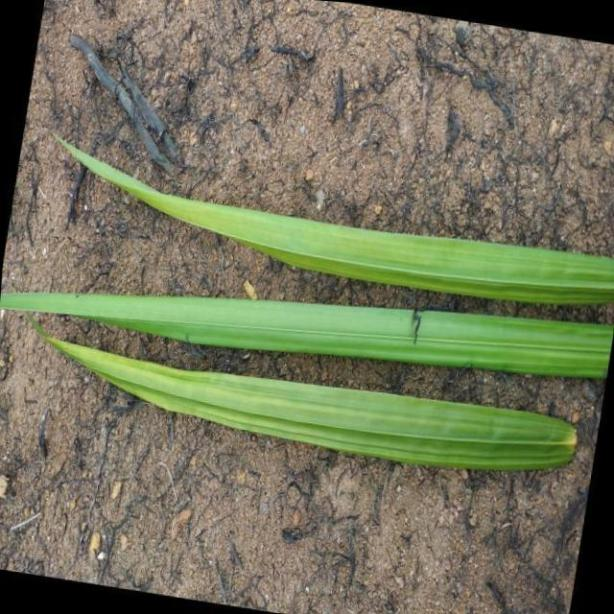nitrogen: (49, 121, 614, 310), (0, 329, 585, 484), (0, 288, 614, 374), (580, 321, 584, 331)
